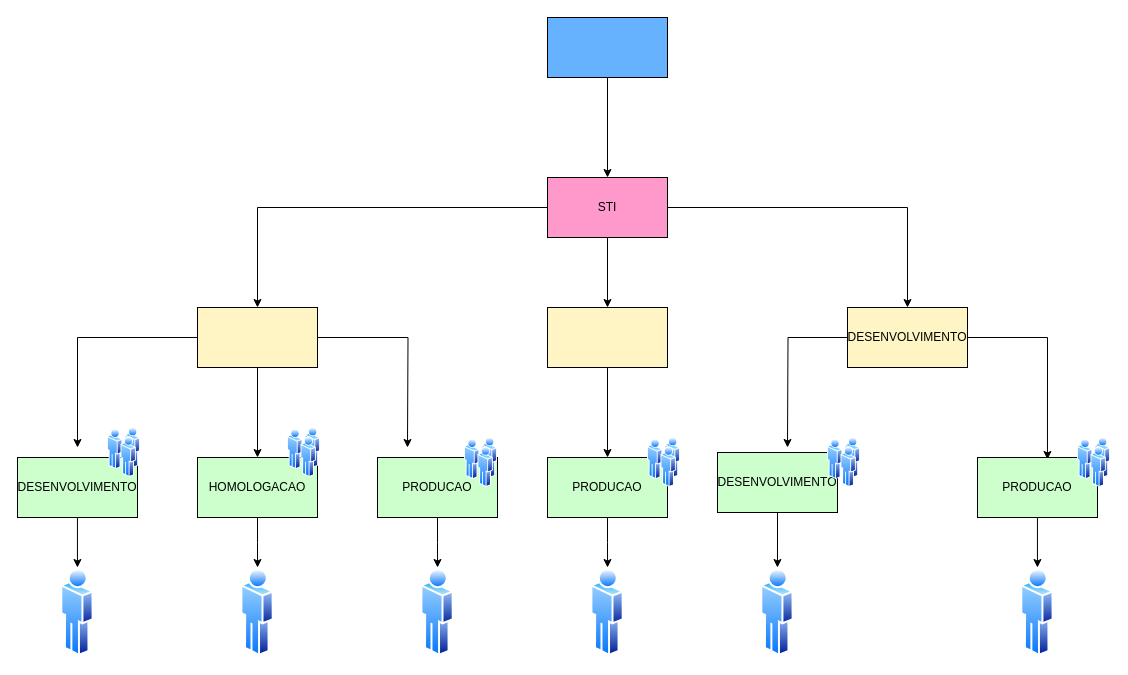
Some shapes in this 1128 by 675 pixel diagram are drawn without their labels. The box of each missing label's shape, as (x1, y1, x2, y2) in pixels:
PLATAFORMA: (196, 306, 318, 368)
SEGURANÇA: (546, 306, 668, 368)
STJ: (546, 16, 668, 78)
